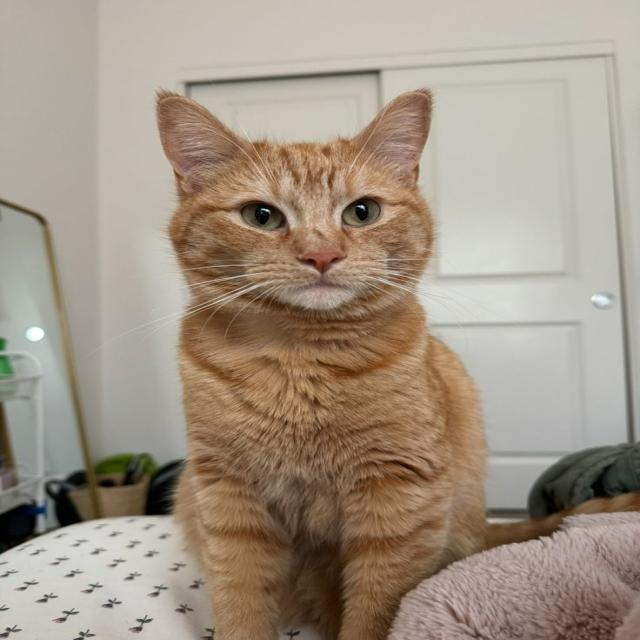sarman: (157, 89, 639, 639)
